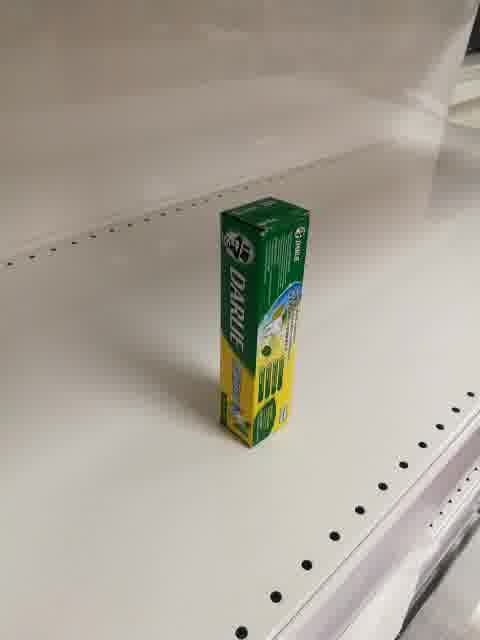toothpaste: (220, 196, 309, 449)
